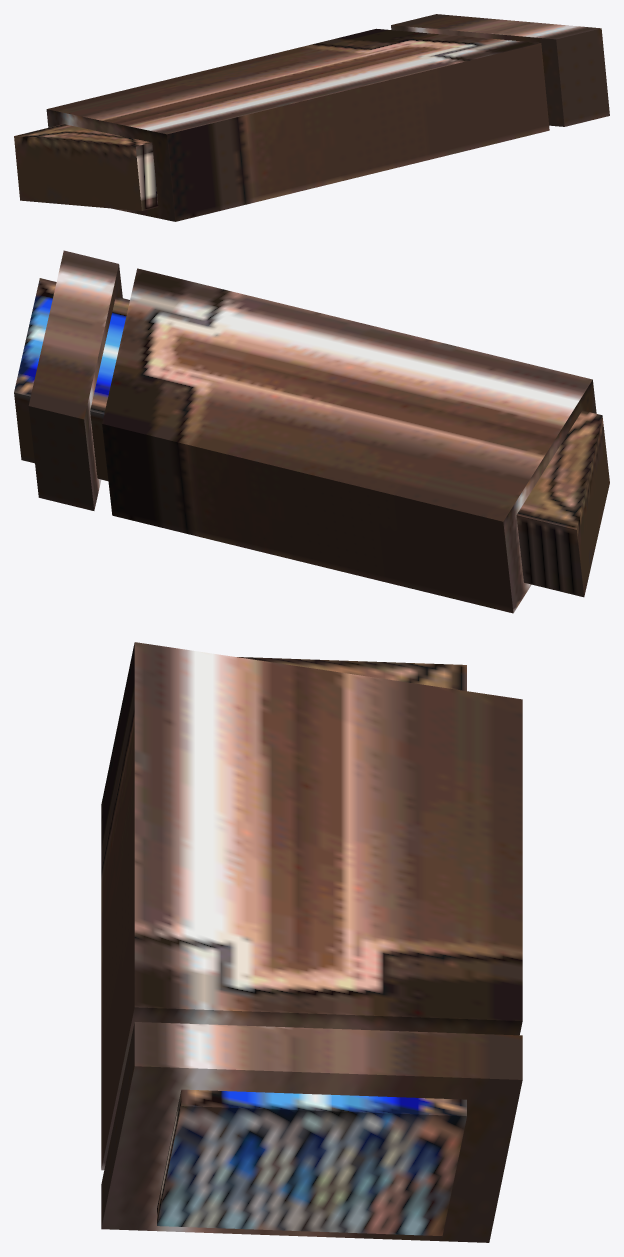
The picture shows the model from 3 angles, top to bottom: view 1: azimuth 30°, elevation 25°; view 2: azimuth 150°, elevation 25°; view 3: azimuth 270°, elevation 25°; orthographic projection. The views are drawn at different scales.
Visible parts, largest first — view 1: BW215; view 2: BW215; view 3: BW215.
Part boxes in pixels (x1,y1,x2,y2): BW215: [14, 14, 609, 221]; BW215: [14, 250, 609, 613]; BW215: [101, 642, 522, 1242].
Bounding box in the file's own units: 21.05 × 4.77 × 7.49.
Materials: 1 (1 with a texture image).
